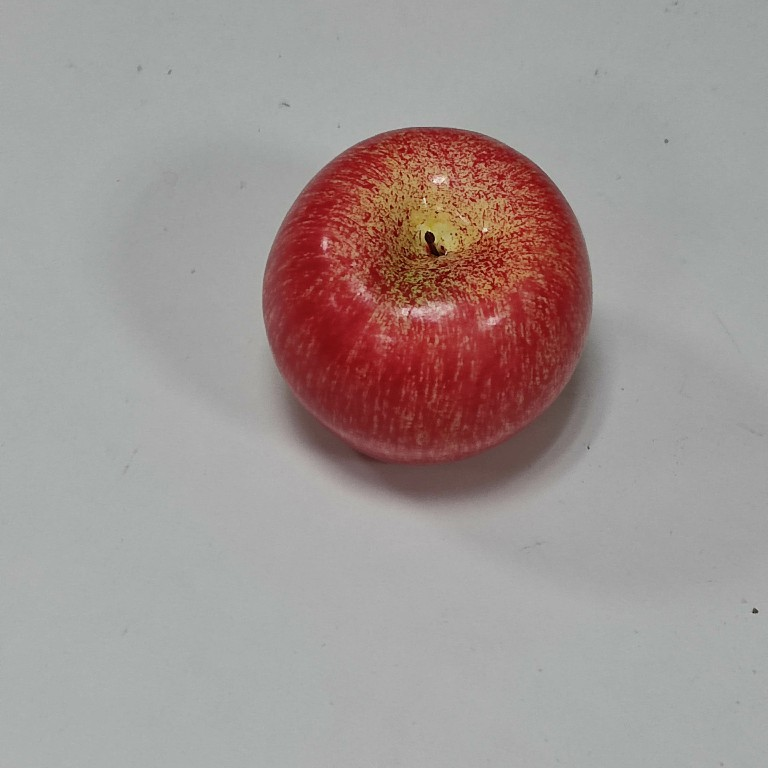fruit_apple: (252, 120, 607, 474)
